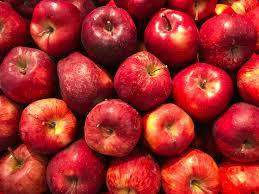apple: (53, 49, 115, 109), (114, 51, 175, 110), (174, 63, 234, 122), (0, 45, 62, 102), (83, 98, 142, 157), (141, 103, 199, 161), (46, 138, 106, 194), (144, 8, 200, 66), (199, 12, 258, 67), (21, 99, 79, 154), (29, 1, 83, 54), (84, 8, 138, 59), (221, 99, 259, 166), (0, 140, 47, 194), (165, 149, 221, 194), (107, 151, 162, 194)
